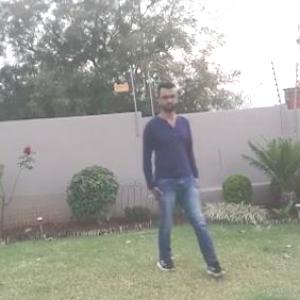follow: (126, 79, 194, 274)
